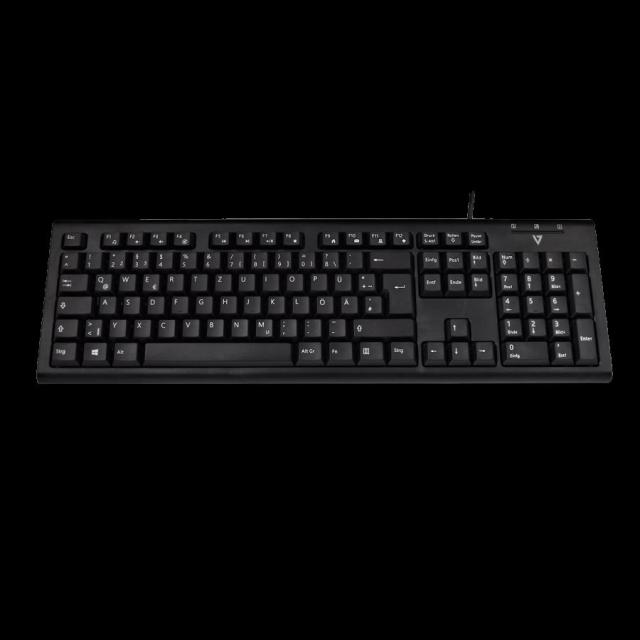0: (294, 248, 313, 267)
1: (82, 249, 100, 267)
2: (105, 249, 124, 268)
3: (129, 248, 147, 268)
4: (153, 248, 171, 267)
5: (176, 249, 194, 268)
6: (201, 249, 219, 267)
7: (224, 249, 242, 268)
8: (248, 249, 266, 268)
9: (271, 249, 289, 268)
a: (96, 293, 114, 311)
accent: (342, 248, 360, 267)
ae: (338, 293, 356, 311)
alt-left: (110, 339, 135, 360)
altgr-right: (294, 339, 320, 359)
b: (203, 315, 221, 334)
c: (155, 316, 172, 335)
caret: (58, 249, 76, 267)
comma: (277, 316, 295, 335)
d: (145, 293, 162, 311)
del: (367, 248, 408, 268)
e: (140, 271, 157, 289)
enter: (380, 270, 410, 312)
f: (169, 293, 186, 311)
g: (193, 293, 210, 311)
h: (217, 293, 234, 311)
hash: (361, 293, 379, 312)
i: (260, 271, 277, 289)
j: (241, 293, 258, 311)
k: (266, 293, 283, 311)
keyboard: (32, 215, 613, 380)
l: (290, 293, 307, 311)
less: (82, 316, 100, 336)
m: (253, 316, 271, 335)
minus: (325, 316, 343, 334)
n: (228, 316, 246, 334)
o: (283, 270, 301, 289)
oe: (313, 293, 331, 311)
p: (306, 270, 325, 289)
plus: (355, 271, 373, 290)
point: (301, 316, 319, 335)
q: (91, 271, 110, 289)
r: (164, 270, 182, 289)
s: (120, 293, 137, 312)
shift-left: (51, 317, 76, 336)
shift-lock: (53, 293, 90, 312)
shift-right: (351, 316, 412, 335)
space: (141, 339, 290, 362)
ss: (318, 249, 337, 268)
strg-left: (48, 339, 75, 360)
strg-right: (386, 339, 413, 362)
t: (188, 271, 205, 289)
tab: (56, 271, 86, 290)
u: (236, 271, 253, 289)
ue: (332, 271, 350, 290)
v: (179, 316, 197, 334)
w: (116, 270, 134, 289)
x: (131, 316, 148, 335)
y: (107, 317, 124, 335)
z: (212, 271, 229, 289)
